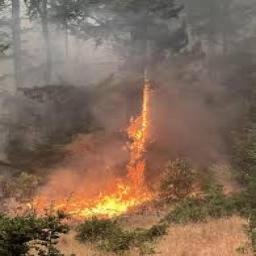Low smoke: (0, 0, 256, 173)
Small fire: (19, 59, 172, 233)
